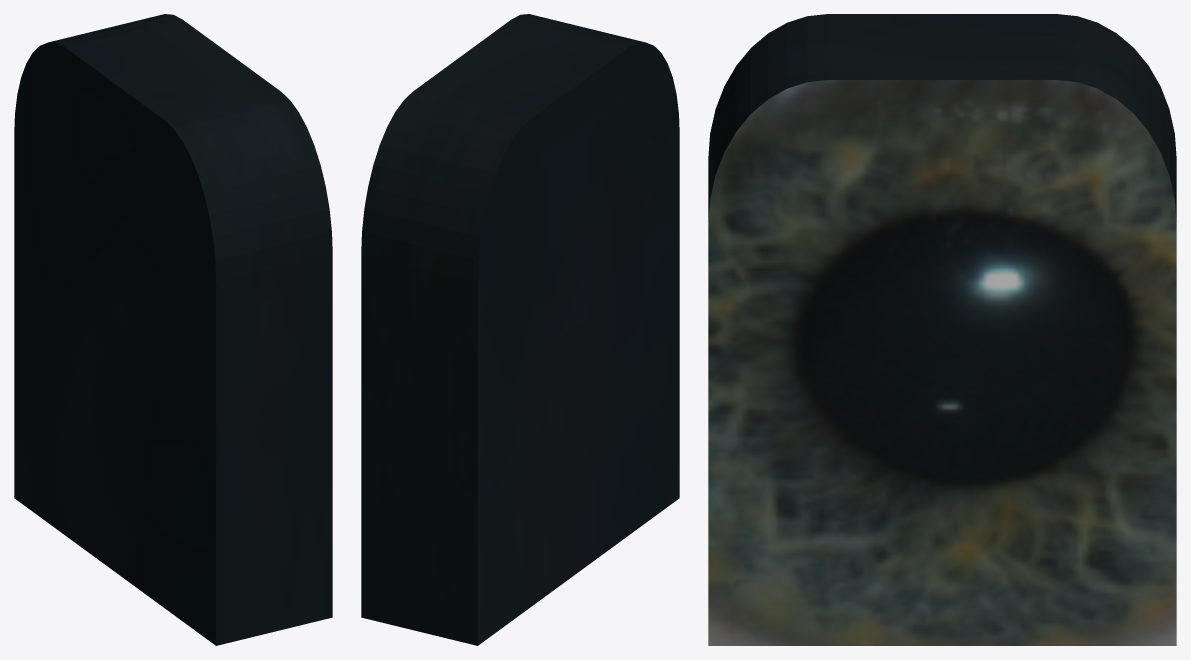
The model's file is EnvyLock.fbx.
The picture shows the model from 3 angles, left to right: view 1: azimuth 30°, elevation 25°; view 2: azimuth 150°, elevation 25°; view 3: azimuth 270°, elevation 25°; orthographic projection. The views are drawn at different scales.
Parts seen in each view (by area): view 1: Cube; view 2: Cube; view 3: Cube.
Part boxes in pixels (x1=…): Cube: x1=14, y1=14, x2=332, y2=645; Cube: x1=361, y1=14, x2=679, y2=645; Cube: x1=708, y1=14, x2=1176, y2=645.
Size of the model in its own units: 200 by 800 by 600.
